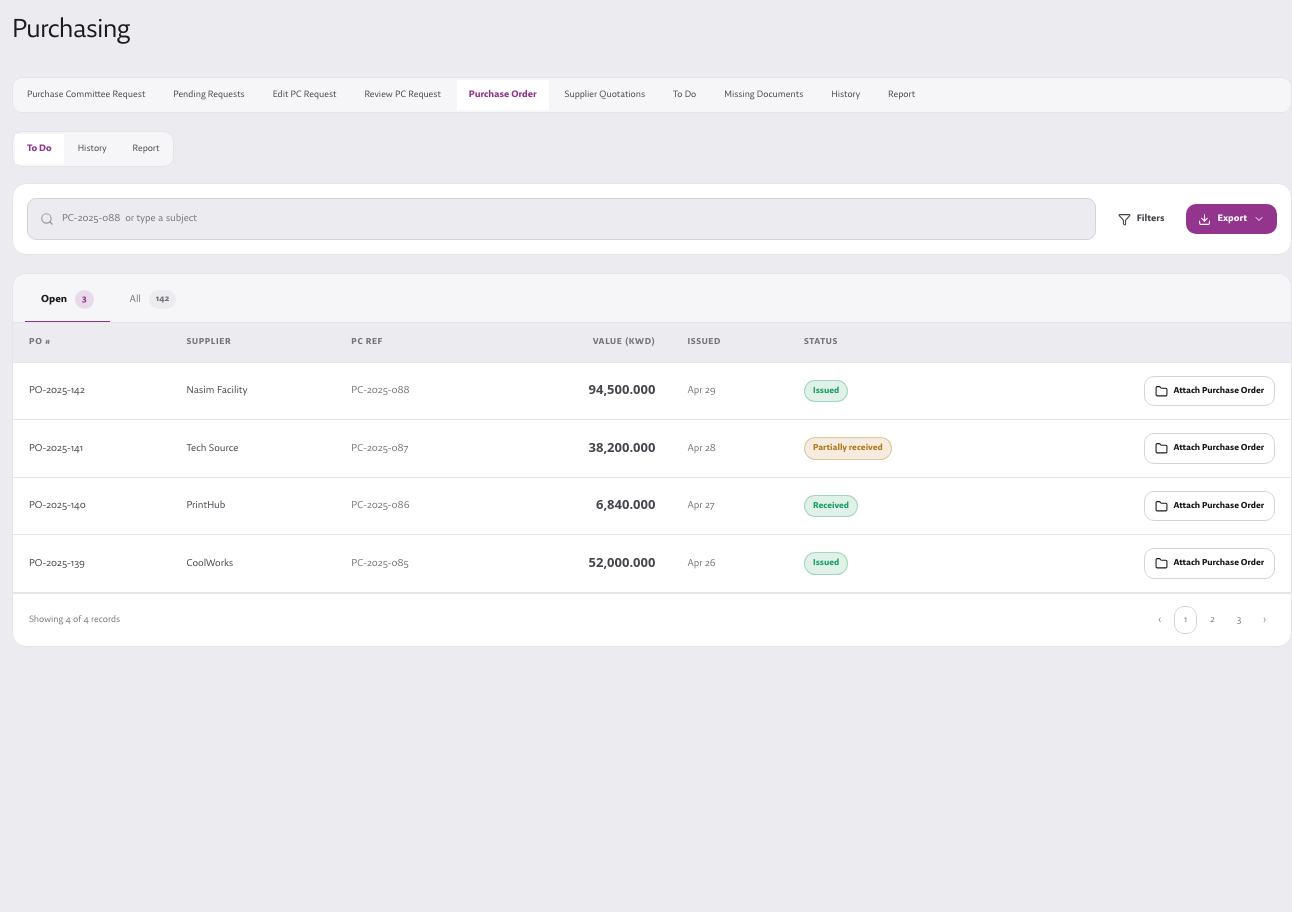
Test: M6.4 Purchase Order › switches to History: derived All 3 count, no RecordFilter, and the verbatim fixture rows
Click the button "History" at (92, 149), box [66, 134, 118, 164]
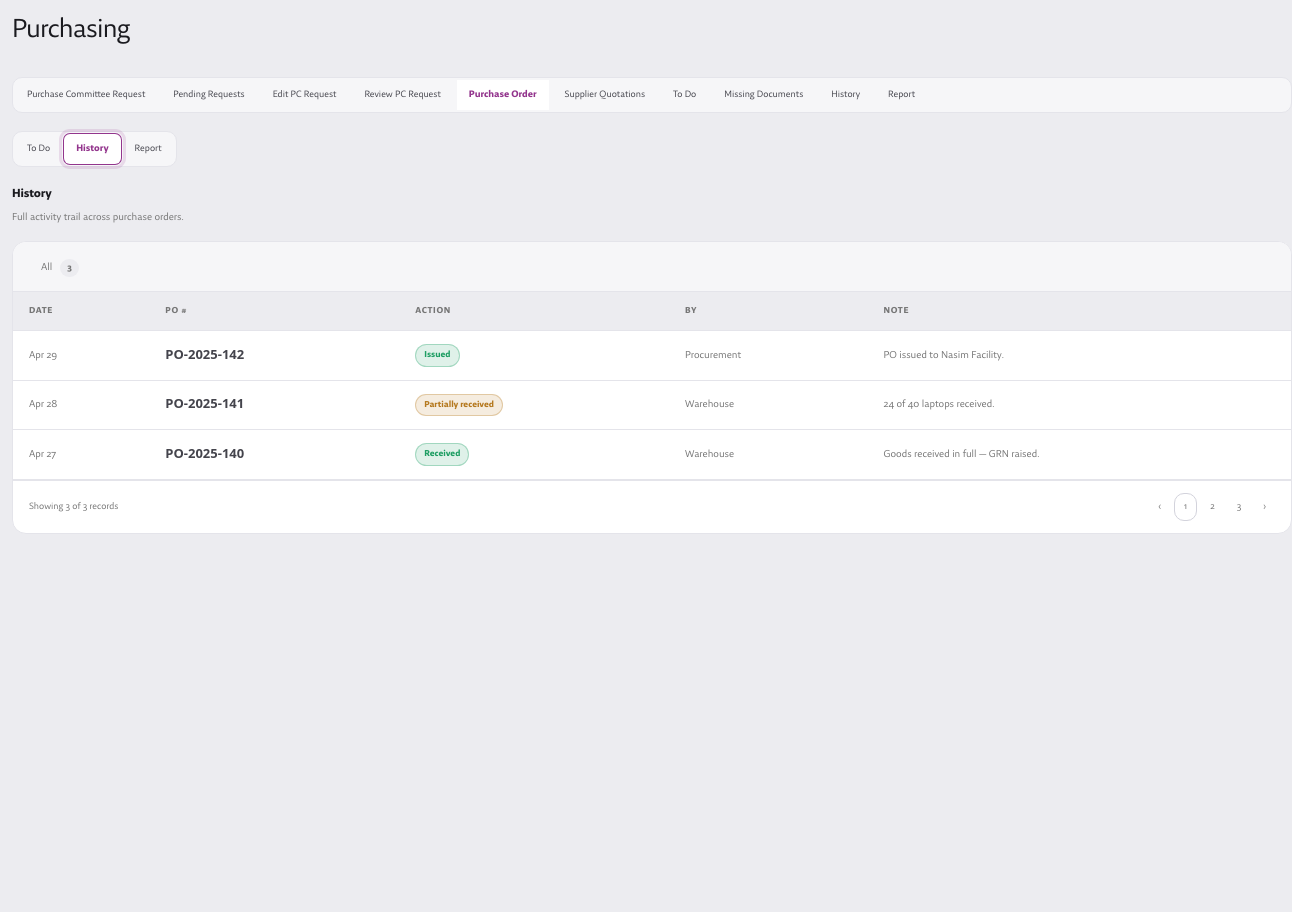
Expected: the heading "History" is shown, [12, 186, 52, 202]
Expected: the tab "All 3" is shown, [25, 246, 95, 292]
Expected: the text "PO issued to Nasim Facility." is shown, [868, 331, 1291, 380]
